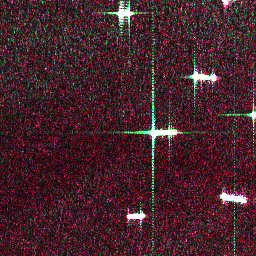ship: (218, 190, 249, 205), (148, 127, 178, 137), (189, 72, 218, 82), (125, 210, 146, 222), (115, 9, 134, 17), (247, 108, 256, 121)
